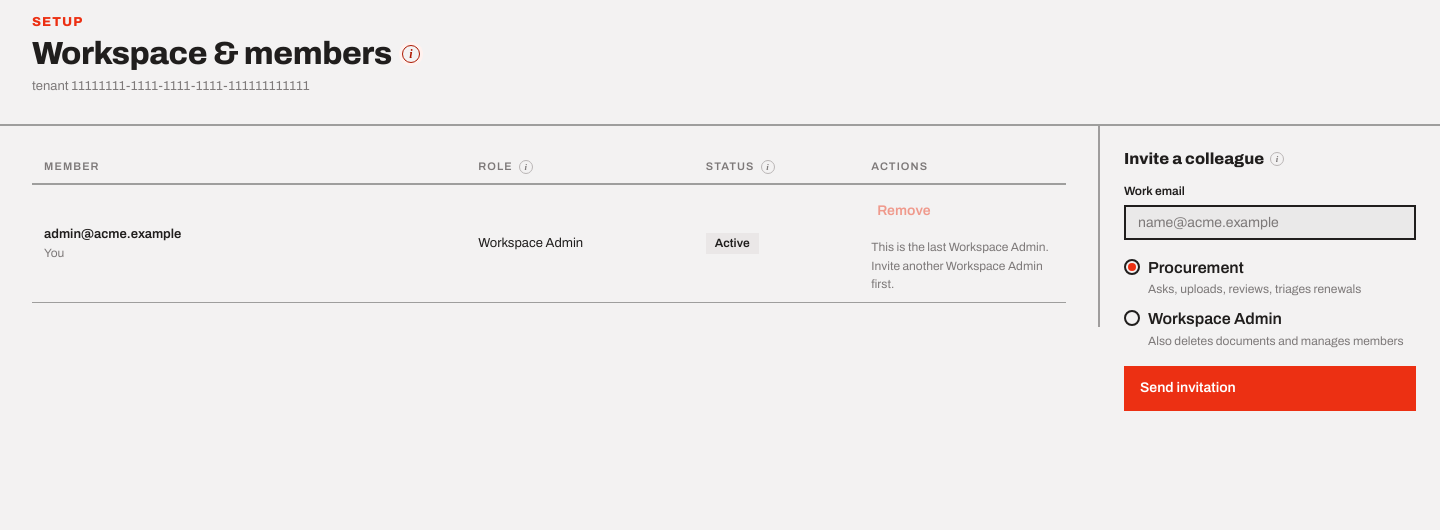
MembersRoute (V2, ADR-020/ADR-025/ADR-026 w14 footers; screens-v2.md #10) › a cross-domain address renders a non-blocking warning and leaves Send invitation enabled; a malformed address still blocks (AC-5)
The width and height of the screenshot is (1440, 530).
Expected: the table is shown, [32, 150, 1066, 303]
Type "buyer@gmail.com" into the field labelled "Work email" at [1270, 222], box [1124, 205, 1416, 240]
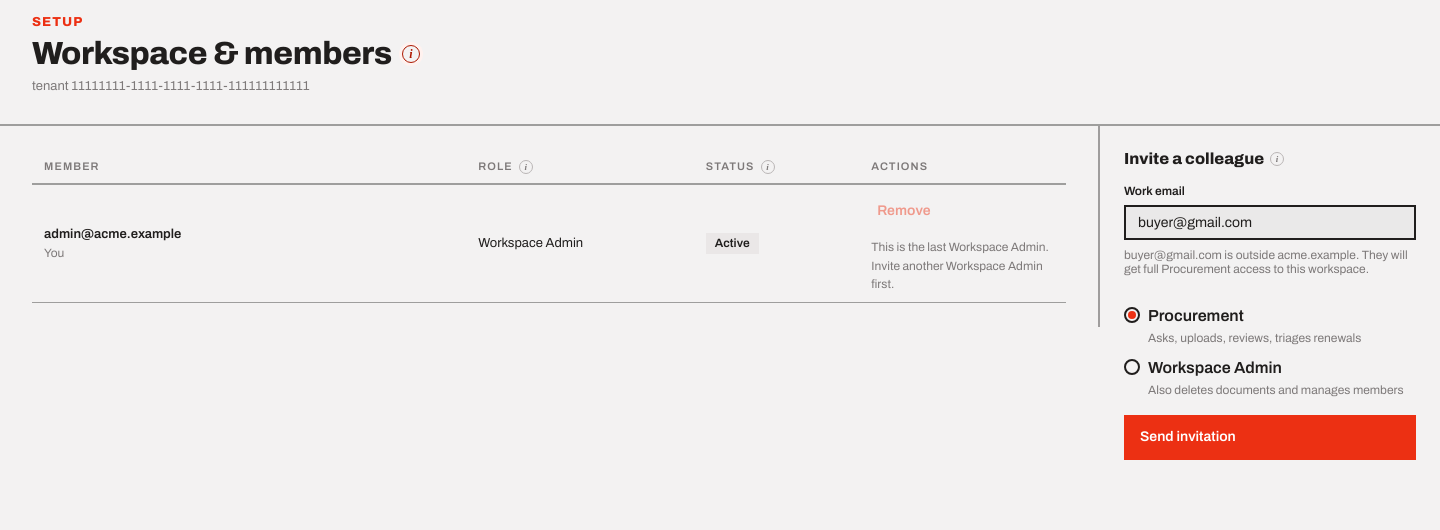
Now the text "buyer@gmail.com is outside acme.example. They will get full Procurement access to this workspace." is shown, box [1124, 248, 1408, 276]
Click the button "Send invitation" at [1188, 437], box [1124, 415, 1416, 460]
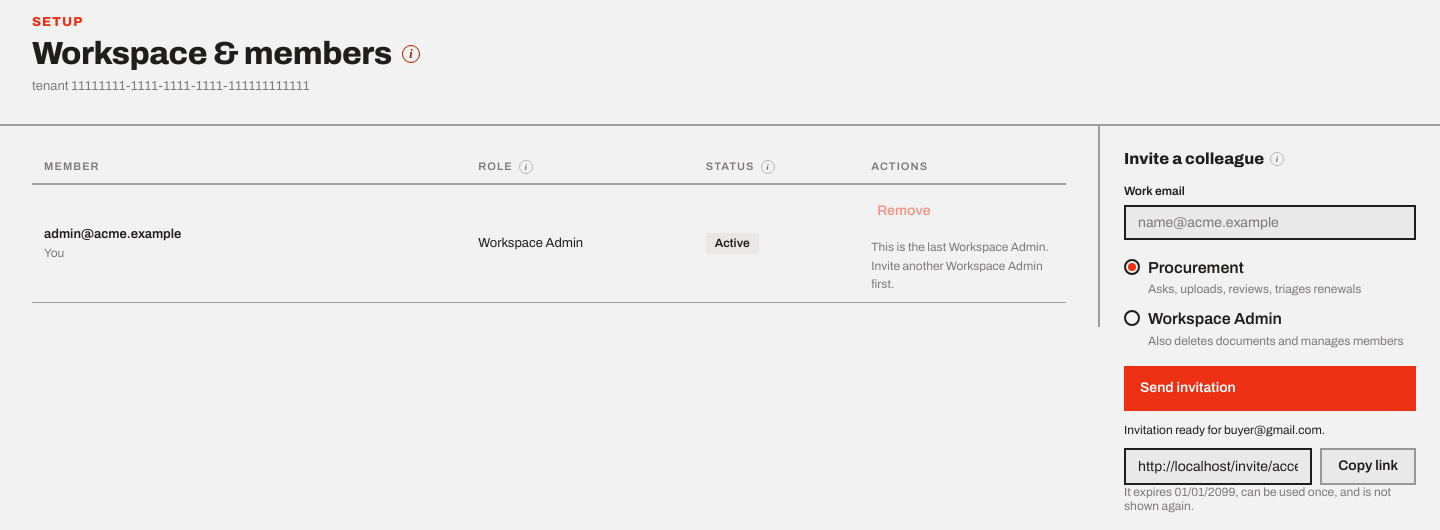
Type "not-an-email" into the field labelled "Work email" at [1270, 222], box [1124, 205, 1416, 240]
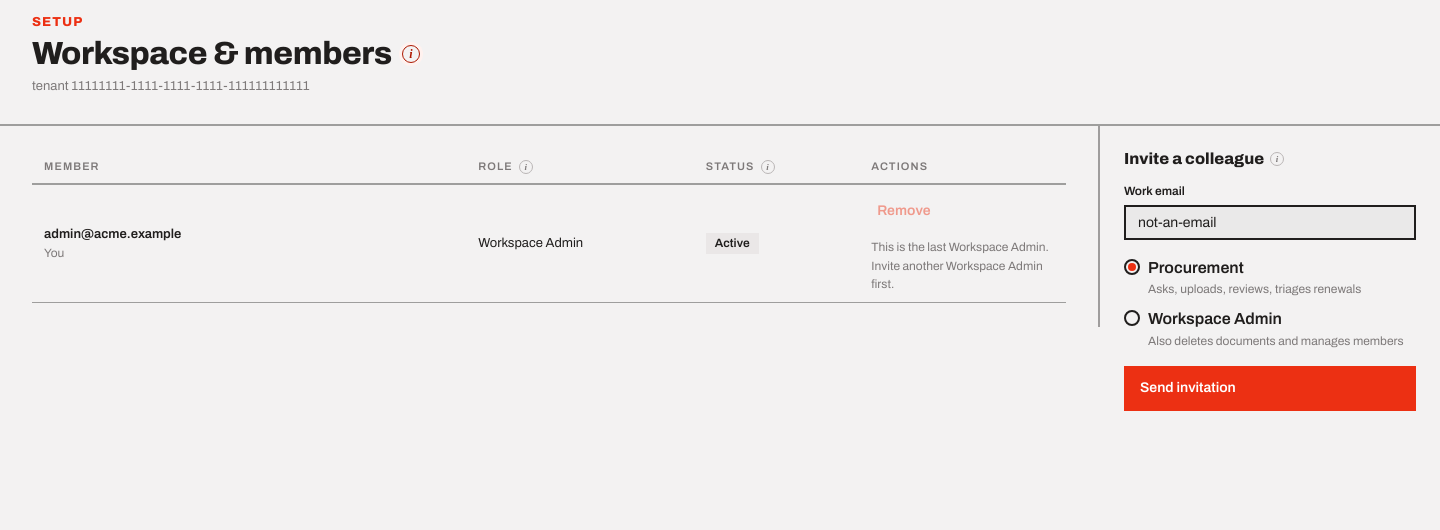
Click the button "Send invitation" at [1188, 388], box [1124, 366, 1416, 411]
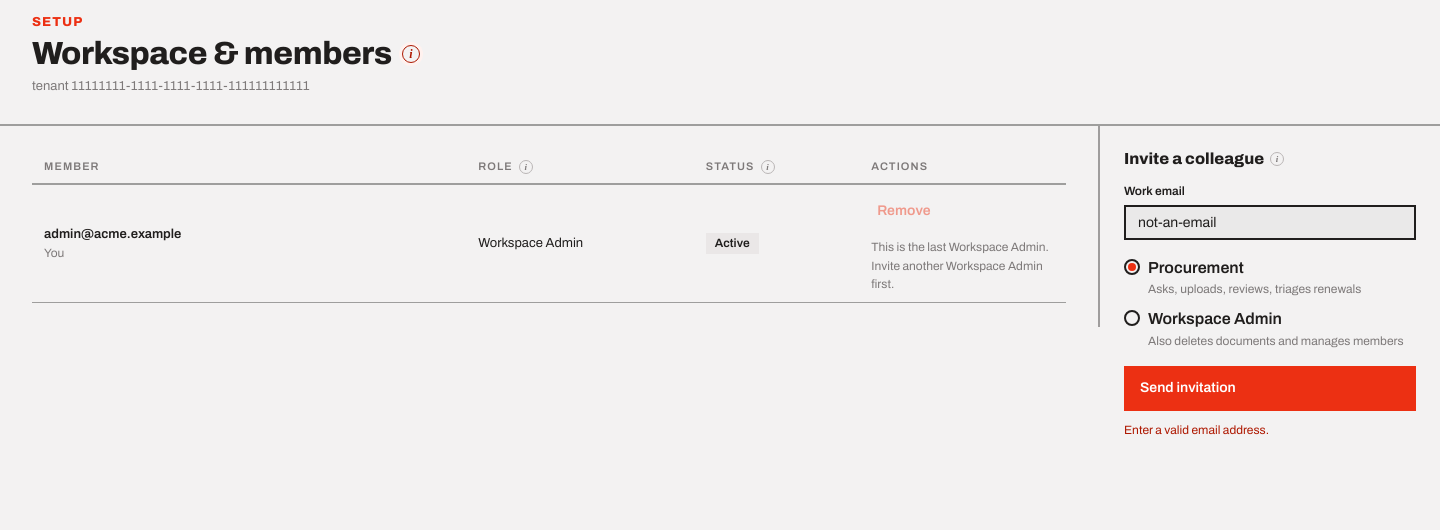
Now the message reads "Enter a valid email address.", box [1124, 423, 1269, 437]
